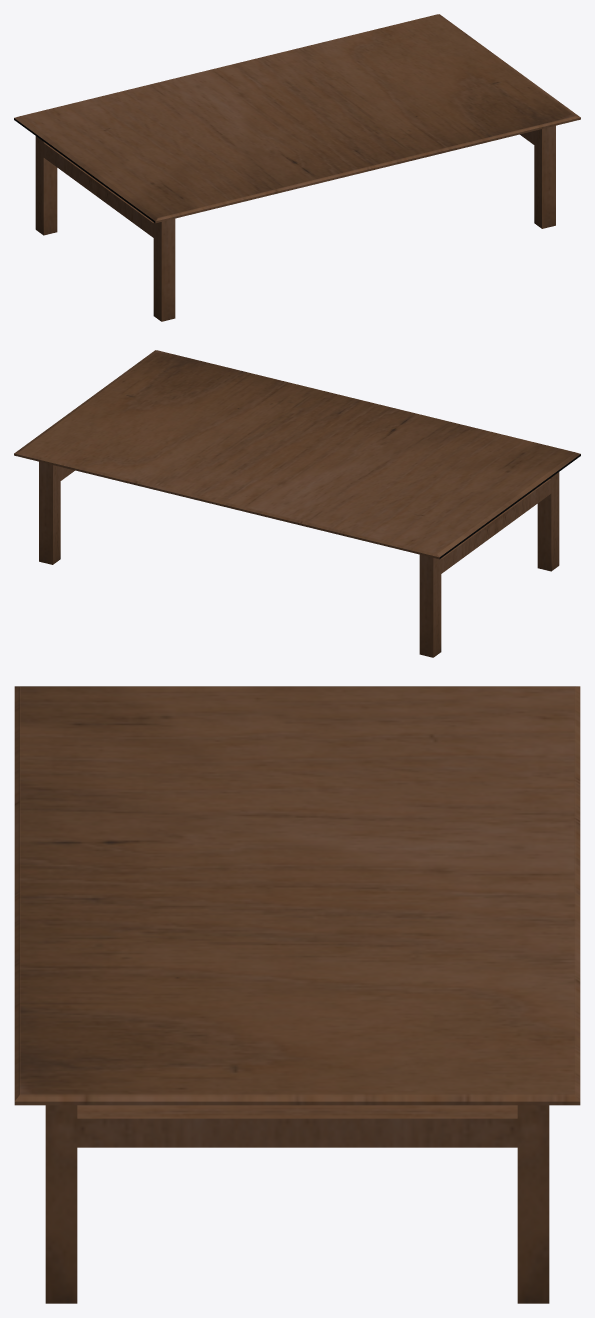
File: TABLE5.fbx
3 renders of one model, top to bottom at view 1: azimuth 30°, elevation 25°; view 2: azimuth 150°, elevation 25°; view 3: azimuth 270°, elevation 25°, orthographic. The views are drawn at different scales.
Visible parts, largest first — view 1: TABLE5; view 2: TABLE5; view 3: TABLE5.
Part boxes in pixels (x1,y1,x2,y2): TABLE5: [14, 14, 580, 321]; TABLE5: [14, 350, 580, 657]; TABLE5: [14, 686, 580, 1303].
Size of the model in its own units: 243 by 60.71 by 140.
